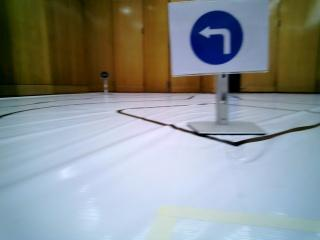left: (169, 0, 265, 72)
